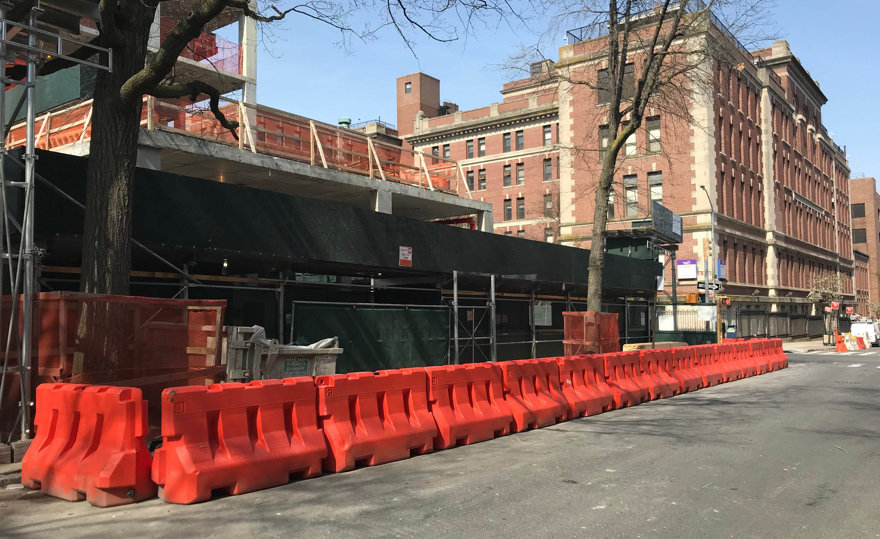Barrier: (19, 369, 395, 510), (393, 352, 607, 449), (603, 337, 809, 404)
